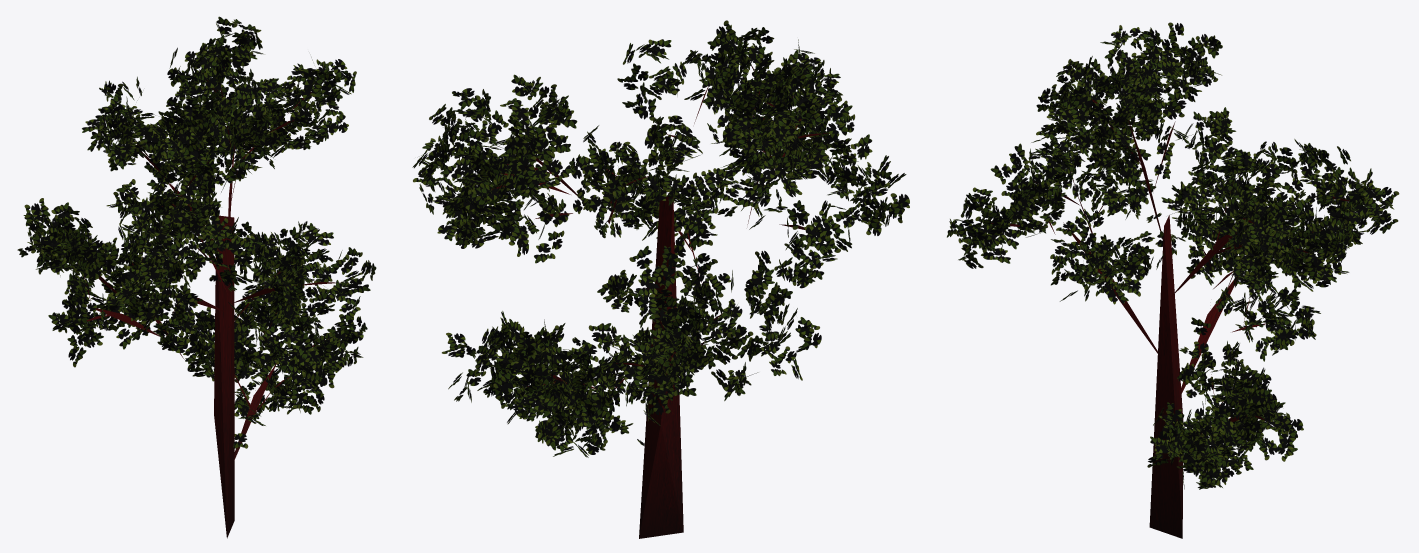
File: evergreen_broad_v01_LOD2.glb
The picture shows the model from 3 angles, left to right: view 1: azimuth 30°, elevation 25°; view 2: azimuth 150°, elevation 25°; view 3: azimuth 270°, elevation 25°; orthographic projection. The views are drawn at different scales.
Visible parts, largest first — view 1: evergreen_broad_v01_LOD2; view 2: evergreen_broad_v01_LOD2; view 3: evergreen_broad_v01_LOD2.
Boxes of the visible parts, left/top/right/bottom form: evergreen_broad_v01_LOD2: left=17, top=16, right=376, bottom=538; evergreen_broad_v01_LOD2: left=412, top=20, right=909, bottom=538; evergreen_broad_v01_LOD2: left=947, top=22, right=1399, bottom=538.
Size of the model in its own units: 14.44 by 19.24 by 17.07.
2 materials, 2 textured.
